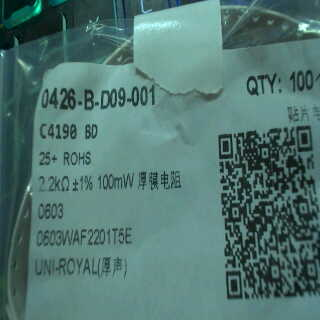2.2kR: (36, 171, 71, 197)
